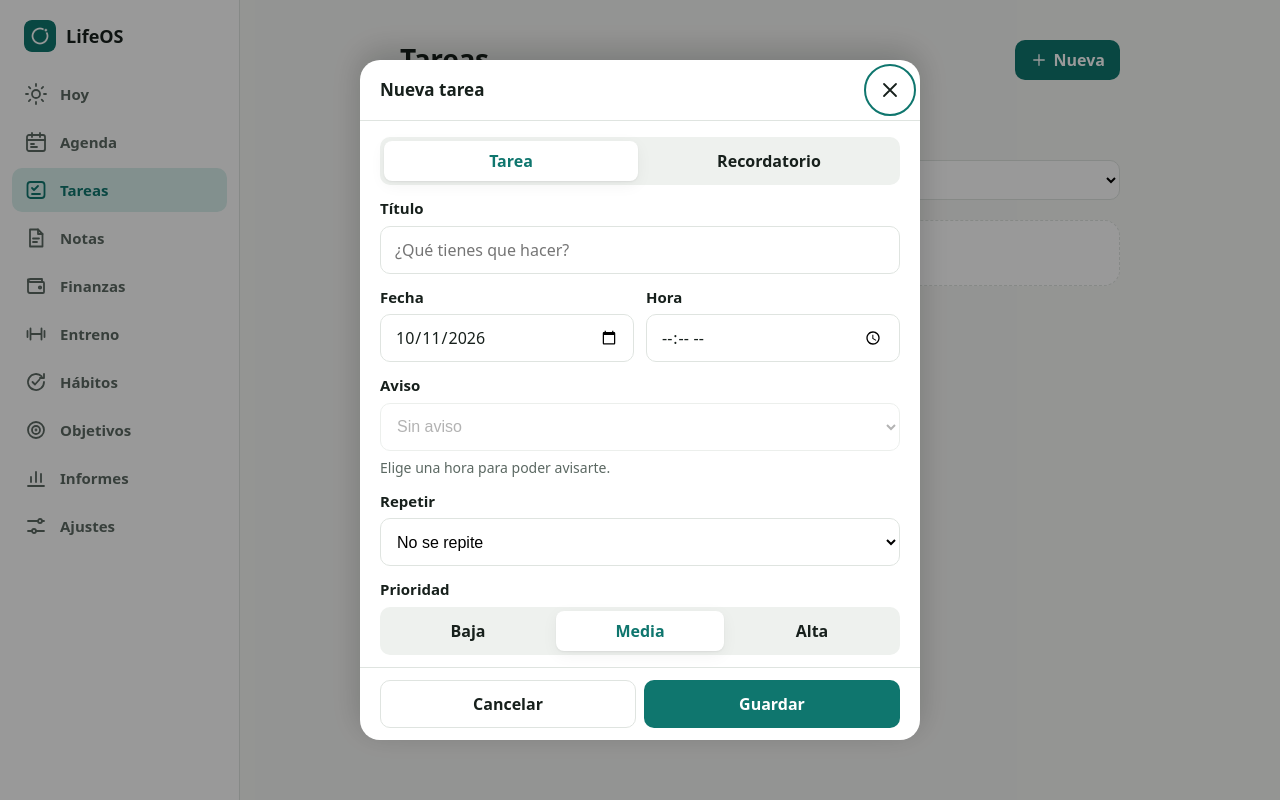
editor de tareas › muestra los errores de validación del servidor junto al campo
Check: the dialog is shown, box [360,60,920,740]
Step 1. Click the button "Guardar" → (772, 704), box [644,680,900,728]
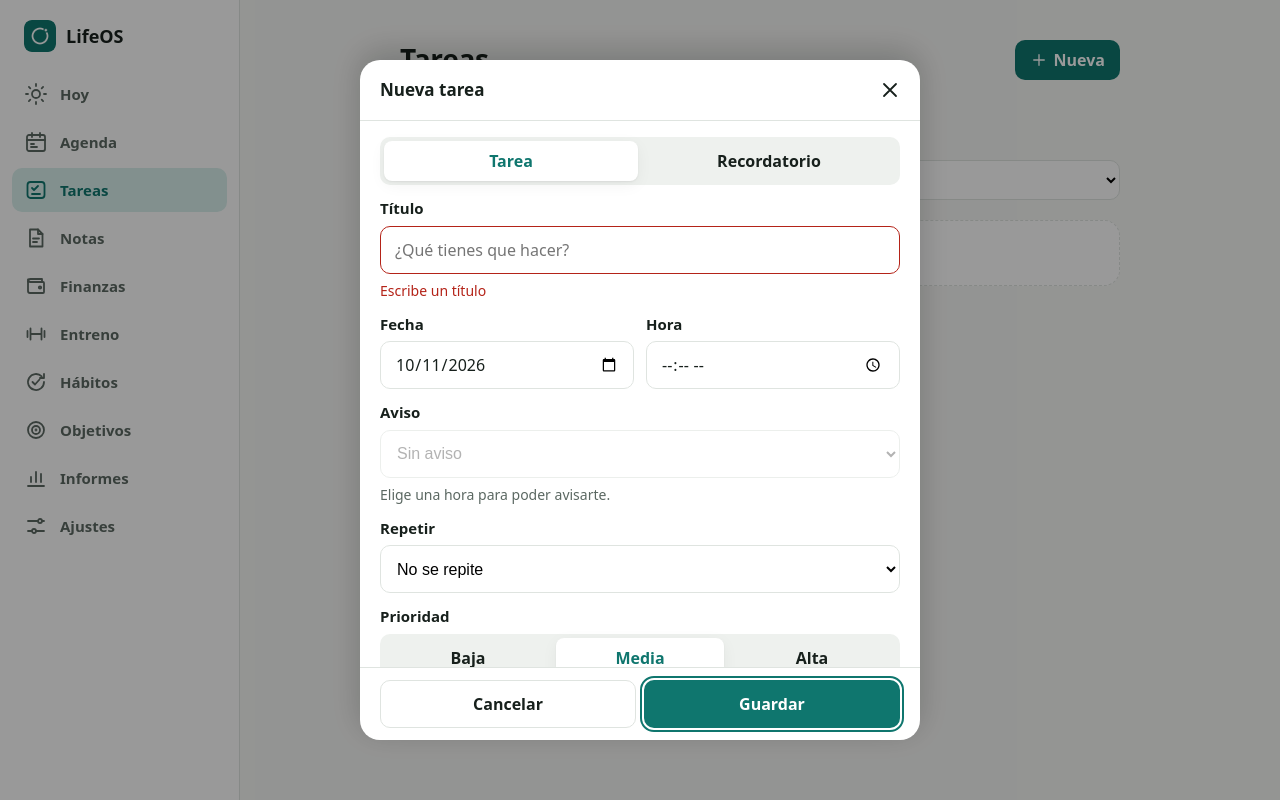
Check: the dialog is shown, box [360,60,920,740]
Check: the text "Escribe un título" is shown, box [380,280,486,300]
